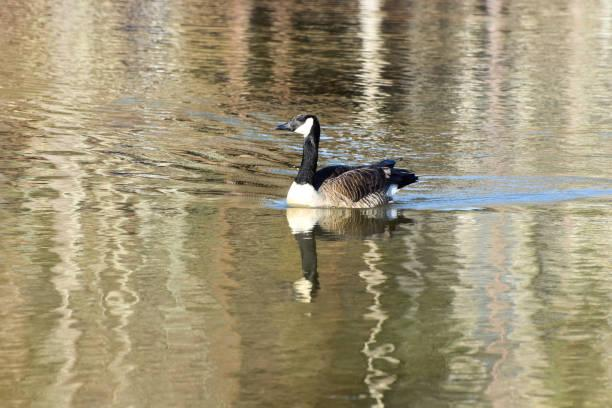Canadian-Goose: (271, 111, 418, 208)
